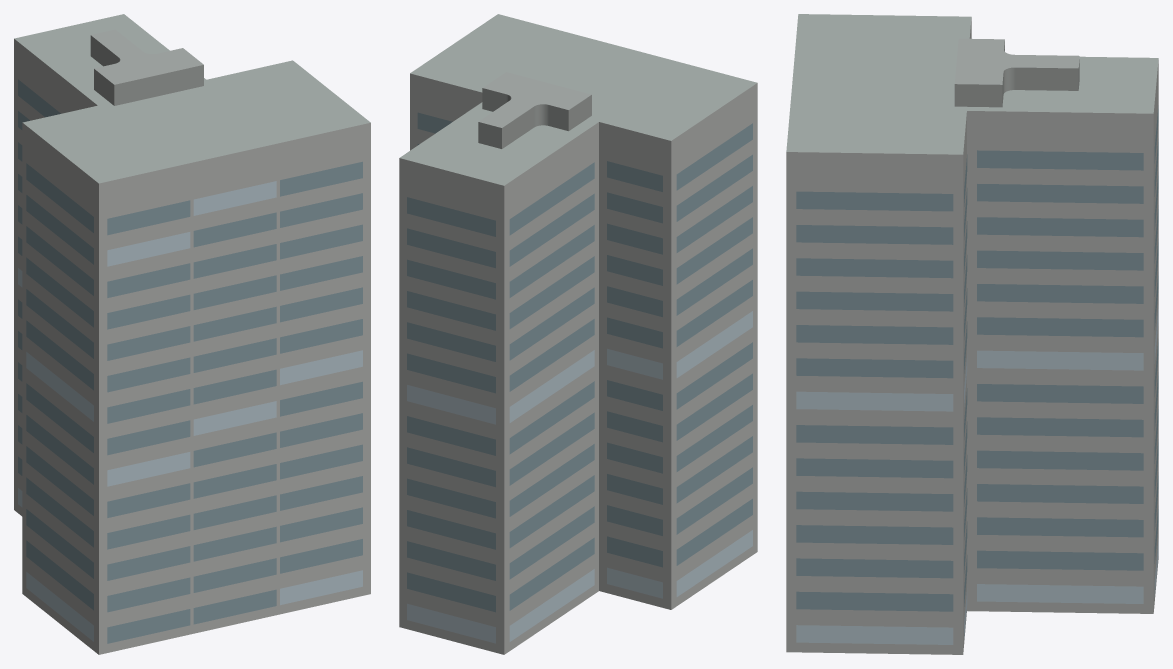
The model's file is fallback-sk-bukhansan-city-124.glb.
3 renders of one model, left to right at view 1: azimuth 30°, elevation 25°; view 2: azimuth 150°, elevation 25°; view 3: azimuth 270°, elevation 25°, orthographic. The views are drawn at different scales.
Parts seen in each view (by area): view 1: fallback-sk-bukhansan-city-124; view 2: fallback-sk-bukhansan-city-124; view 3: fallback-sk-bukhansan-city-124.
Part boxes in pixels (x1,y1,x2,y2): fallback-sk-bukhansan-city-124: [14, 14, 370, 654]; fallback-sk-bukhansan-city-124: [399, 14, 757, 654]; fallback-sk-bukhansan-city-124: [786, 14, 1158, 654].
Size of the model in its own units: 27.63 by 47.81 by 30.89.
